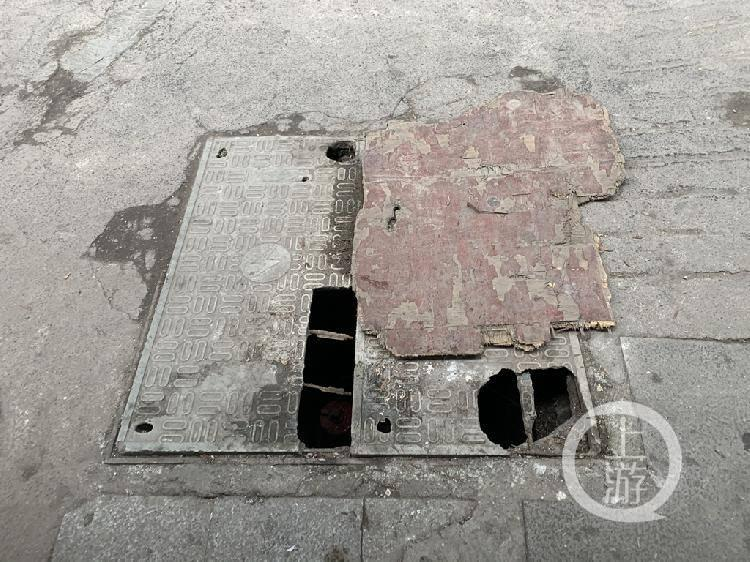wellcover: (93, 113, 644, 486)
